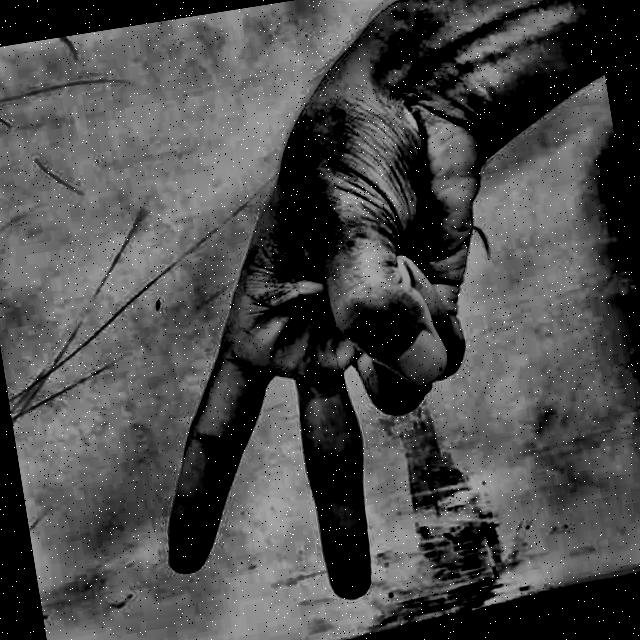Pa: (66, 18, 561, 640)
